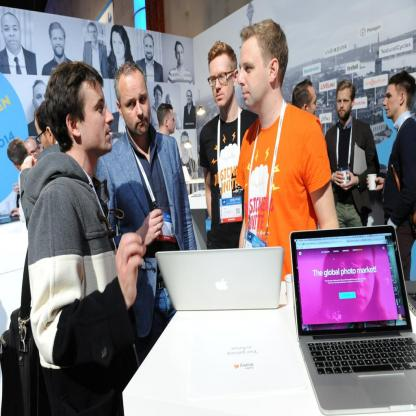board: (289, 226, 416, 412), (155, 248, 285, 313), (368, 172, 377, 190)
